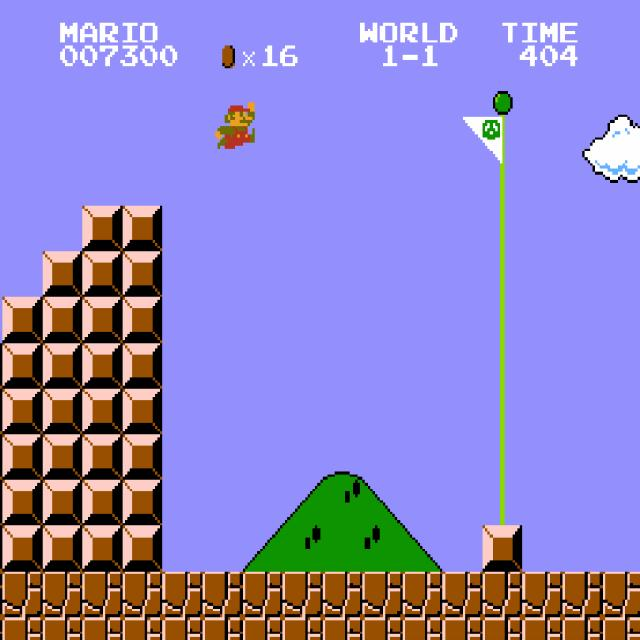goal_pole: (482, 114, 523, 160), (482, 160, 523, 206), (482, 297, 523, 343), (482, 434, 523, 480), (482, 480, 523, 526), (482, 69, 523, 114), (482, 206, 523, 251), (482, 252, 523, 297), (482, 343, 523, 388), (482, 389, 523, 434)
hard_block: (2, 297, 43, 343), (2, 434, 43, 480), (2, 480, 43, 526), (42, 297, 83, 343), (42, 434, 83, 480), (42, 480, 83, 526), (82, 297, 123, 343), (82, 434, 123, 480), (82, 480, 123, 526), (122, 297, 163, 343), (122, 434, 163, 480), (122, 480, 163, 526), (2, 343, 43, 388), (2, 389, 43, 434), (2, 526, 43, 571), (42, 252, 83, 297), (42, 343, 83, 388), (42, 389, 83, 434), (42, 526, 83, 571), (82, 206, 123, 251), (82, 252, 123, 297), (82, 343, 123, 388), (82, 389, 123, 434), (82, 526, 123, 571), (122, 206, 163, 251), (122, 252, 163, 297), (122, 343, 163, 388), (122, 389, 163, 434), (122, 526, 163, 571), (482, 526, 523, 571), (0, 342, 2, 388), (0, 388, 2, 434), (0, 525, 2, 571), (0, 434, 2, 479), (0, 480, 2, 525)
little_mario: (213, 100, 255, 148)
undestructible_block: (2, 572, 43, 617), (42, 572, 83, 617), (82, 572, 123, 617), (122, 572, 163, 617), (162, 572, 203, 617), (202, 572, 243, 617), (242, 572, 283, 617), (282, 572, 323, 617), (322, 572, 363, 617), (362, 572, 403, 617), (402, 572, 443, 617), (442, 572, 483, 617), (482, 572, 523, 617), (522, 572, 563, 617), (562, 572, 603, 617), (603, 572, 640, 617), (2, 617, 43, 640), (42, 617, 83, 640), (82, 617, 123, 640), (122, 617, 163, 640), (162, 617, 203, 640), (202, 617, 243, 640), (242, 617, 283, 640), (282, 617, 323, 640), (322, 617, 363, 640), (362, 617, 403, 640), (402, 617, 443, 640), (442, 617, 483, 640), (482, 617, 523, 640), (522, 617, 563, 640), (562, 617, 603, 640), (603, 617, 640, 640), (0, 571, 2, 617), (0, 617, 2, 639)
